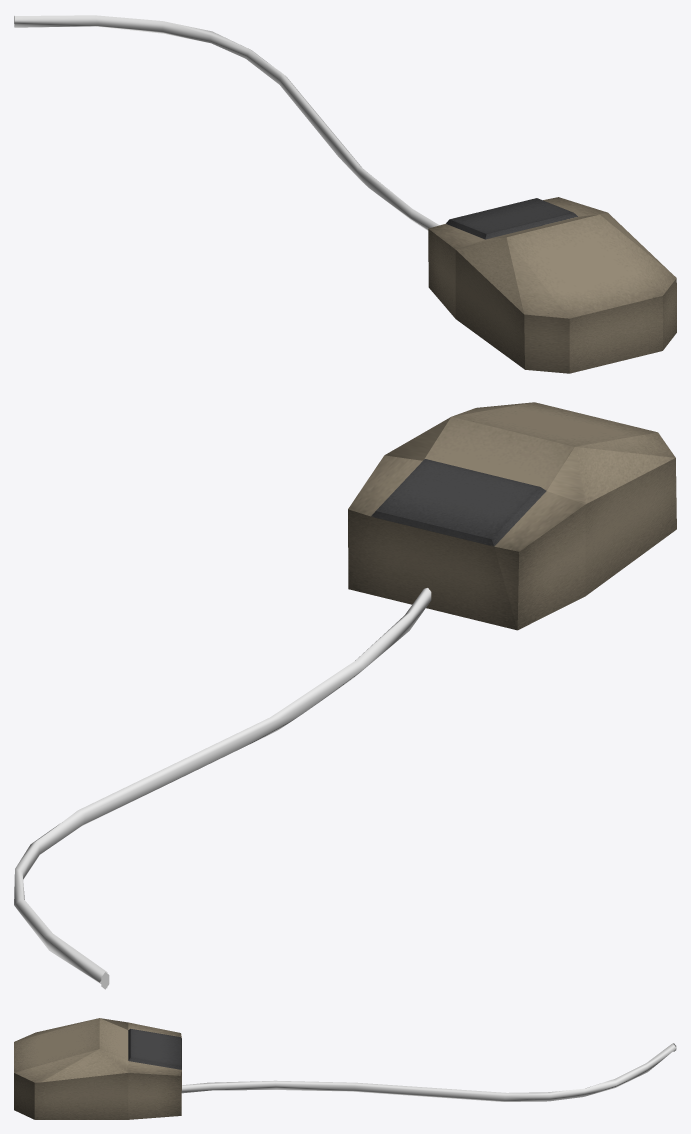
The model's file is mouse.fbx.
The picture shows the model from 3 angles, top to bottom: view 1: azimuth 30°, elevation 25°; view 2: azimuth 150°, elevation 25°; view 3: azimuth 270°, elevation 25°; orthographic projection. The views are drawn at different scales.
Parts seen in each view (by area): view 1: Cube, BézierCurve; view 2: Cube, BézierCurve; view 3: Cube, BézierCurve.
Part boxes in pixels (x1,y1,x2,y2): Cube: (428,197,676,373); BézierCurve: (14,15,439,230); Cube: (348,402,676,630); BézierCurve: (14,588,431,989); Cube: (14,1018,181,1119); BézierCurve: (181,1043,676,1101).
Size of the model in its own units: 27.45 by 12.29 by 121.
Materials: 2 (1 with a texture image).
